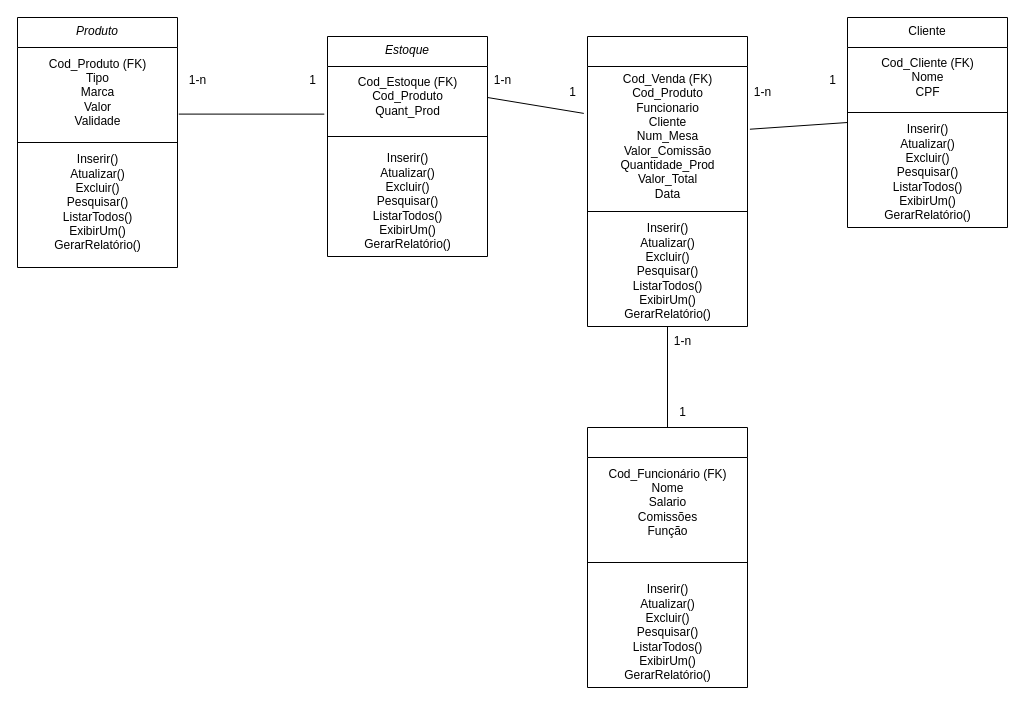
Some shapes in this 1025 by 705 pixel diagram are drawn without their labels. Each missing label, with the box of its shape:
Funcionários: (586, 426, 748, 688)
Vendas: (586, 36, 748, 326)
